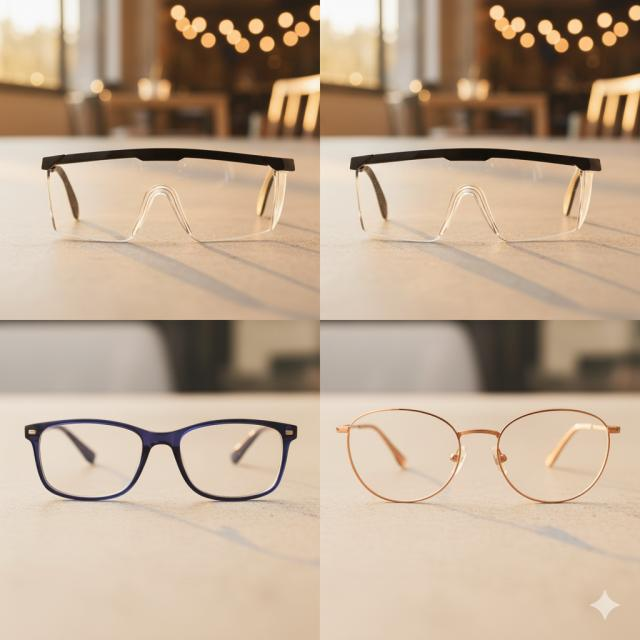oculos-epi: (34, 141, 304, 253), (343, 143, 609, 253)
sem_oculos: (337, 409, 620, 503), (25, 419, 297, 501)
